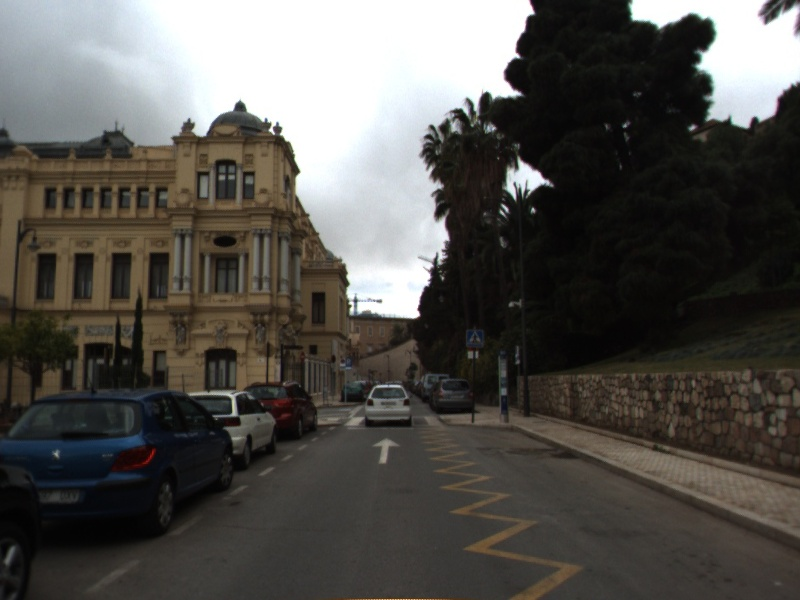STRAIGHT: (370, 436, 403, 465)
